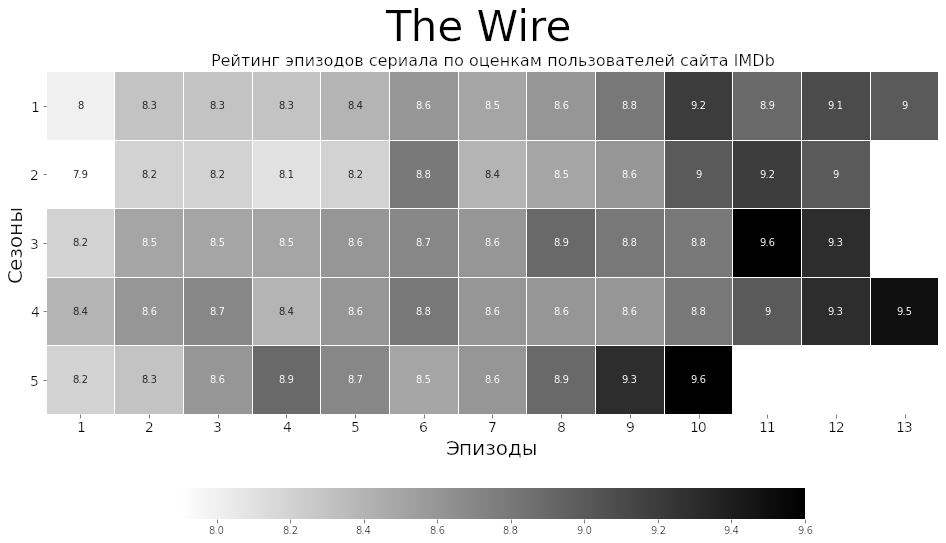

What the dashboard file says about the page in this screenshot:
{"tool":"tableau","page":{"name":"Прослушка","canvas":[1280,720],"ordinal":0},"visuals":[{"type":"image","param":"Image/wire-logo-2.png","box":[134,27,1068,74]},{"type":"worksheet","title":"Таблица","mark":"Square","rows":["season"],"cols":["episode_number"],"box":[130,119,1008,505]},{"type":"legend","title":"Таблица","param":"[federated.1vqkw0p1fl3d6u11afvh90fe32zm].[sum:rating:qk]","box":[471,620,368,76]}]}

Visuals, with their boxes in screenshot pixels (x1, y1, x2, y2), scaled from the page's 1280x720 canvas onto the 946x543 screenshot:
image: [x1=99, y1=20, x2=888, y2=76]
"Таблица" worksheet (Square marks): [x1=96, y1=90, x2=841, y2=471]
"Таблица" legend: [x1=348, y1=468, x2=620, y2=525]
